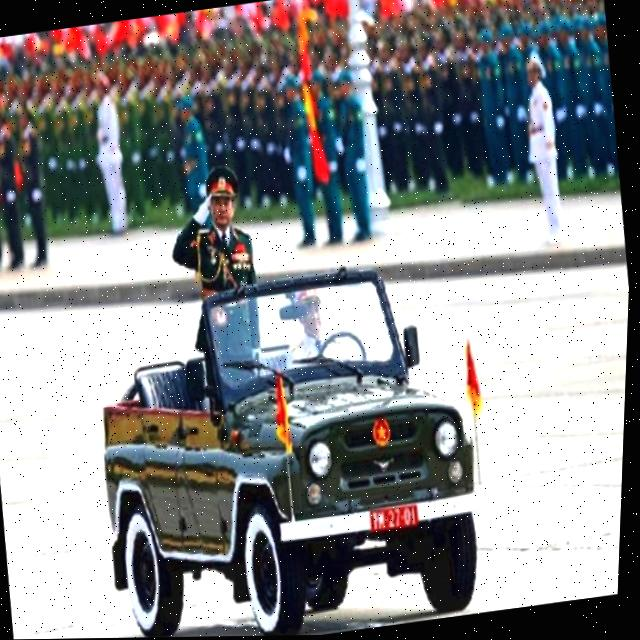car: (60, 244, 523, 639)
plate: (358, 492, 434, 541)
